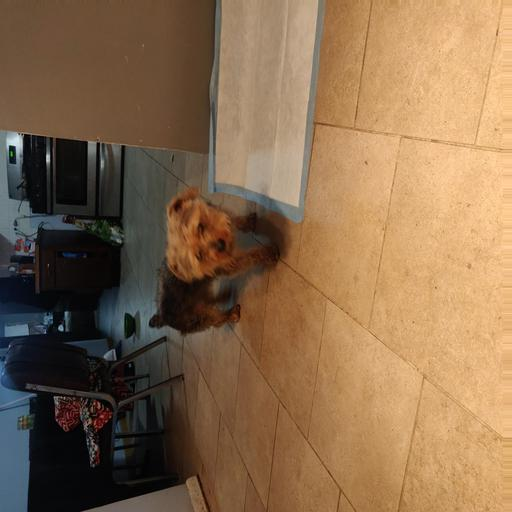dog: (129, 187, 269, 327)
